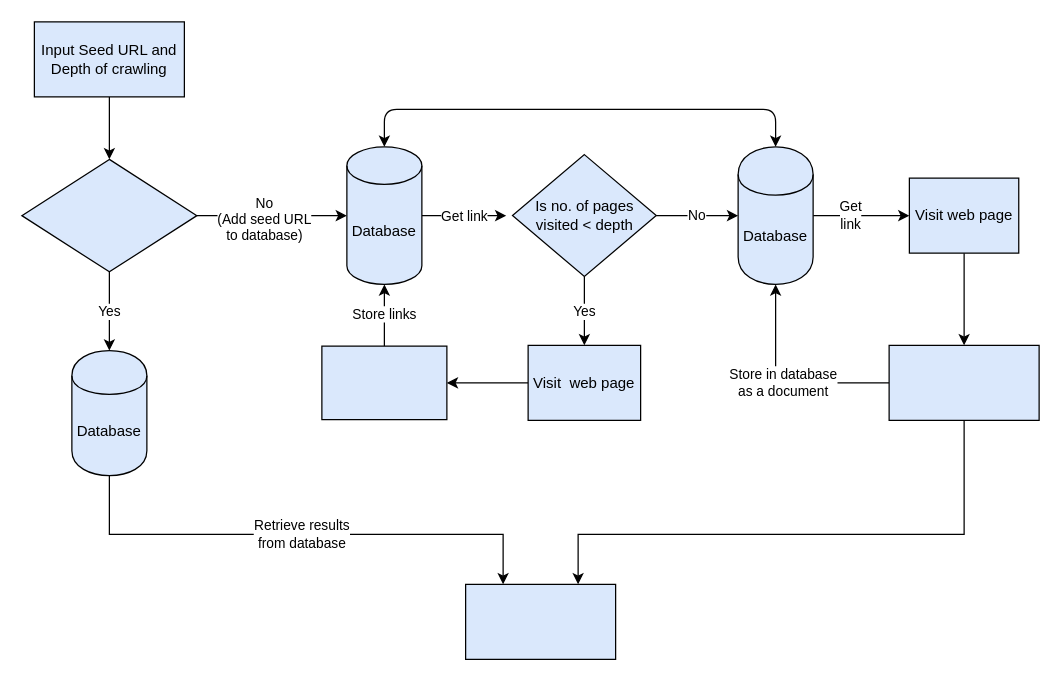
This 1061x681 diagram has some shape labels left out. Each missing label, with the centre of its shape:
"Display results on web page" belongs at (x=540, y=621).
"Extract links from that web page" belongs at (x=384, y=382).
"Is Seed URL already crawled?" belongs at (x=109, y=215).
"Retrieve title, page content, parent link, image urls, and link status" belongs at (x=963, y=382).
